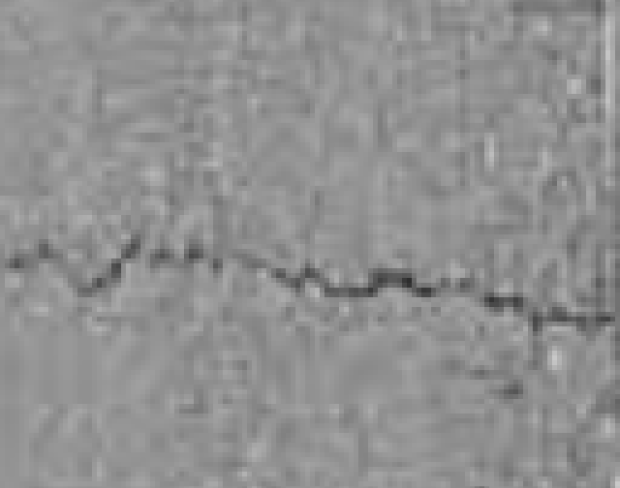Retak Melintang: (5, 203, 620, 371)
